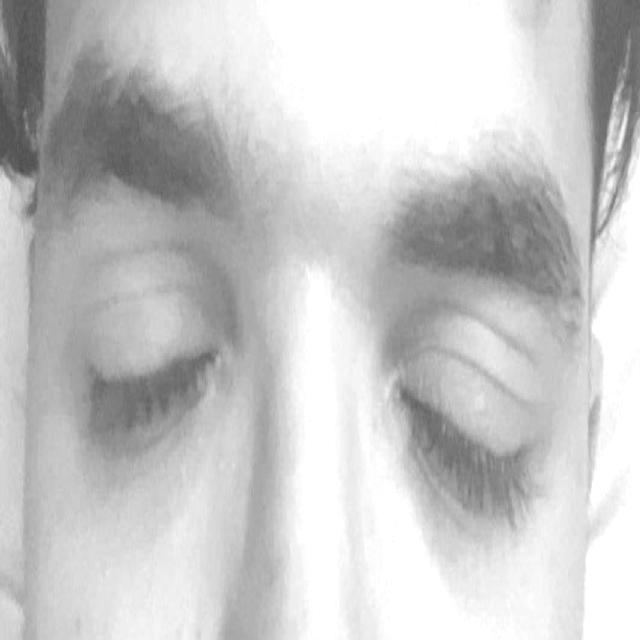real: (55, 170, 563, 578)
